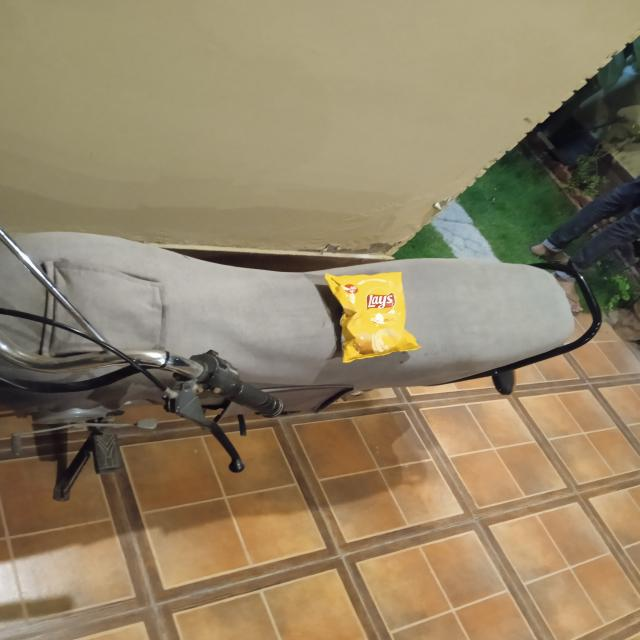Plastic: (316, 266, 423, 358)
